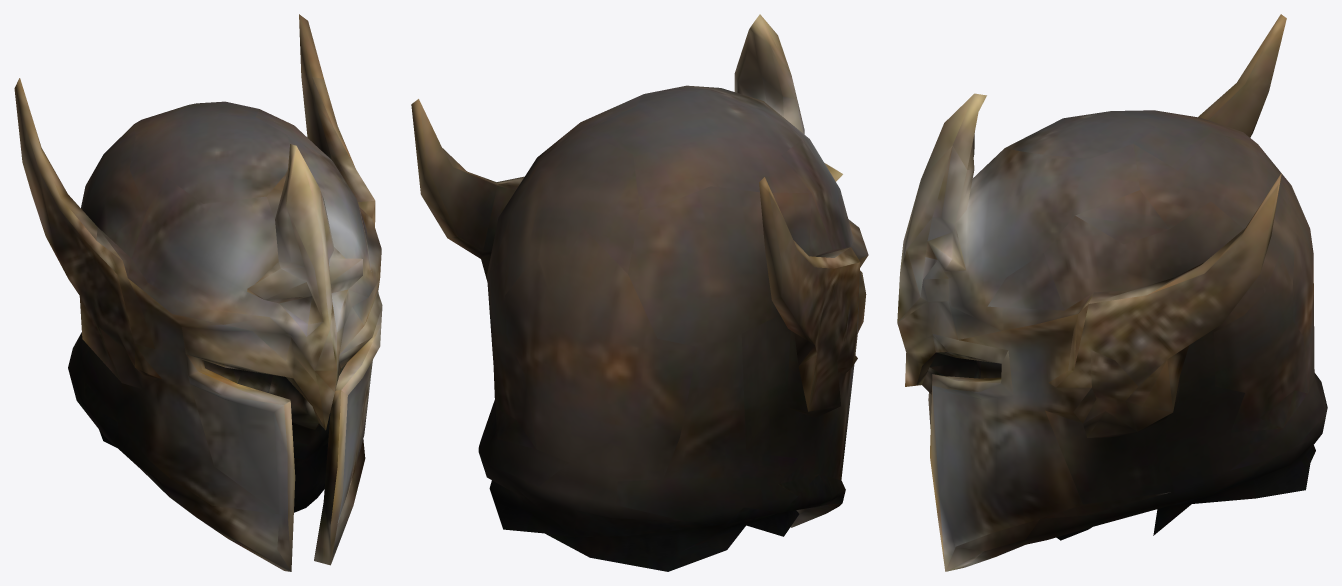
File: t_pale_head.glb
3 views of the same model, side by side, from view 1: azimuth 30°, elevation 25°; view 2: azimuth 150°, elevation 25°; view 3: azimuth 270°, elevation 25° (orthographic). The views are drawn at different scales.
Visible parts, largest first — view 1: t_pale_head; view 2: t_pale_head; view 3: t_pale_head.
Part boxes in pixels (box(x1,y1,x2,y2)): t_pale_head: box(14, 14, 382, 571); t_pale_head: box(411, 14, 868, 571); t_pale_head: box(897, 14, 1327, 571).
Size of the model in its own units: 0.367 by 0.5 by 0.4151.
Materials: 1 (1 with a texture image).
